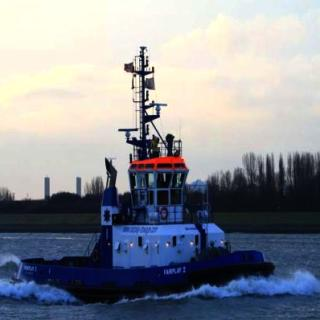Tug Boat: (1, 74, 280, 297)
